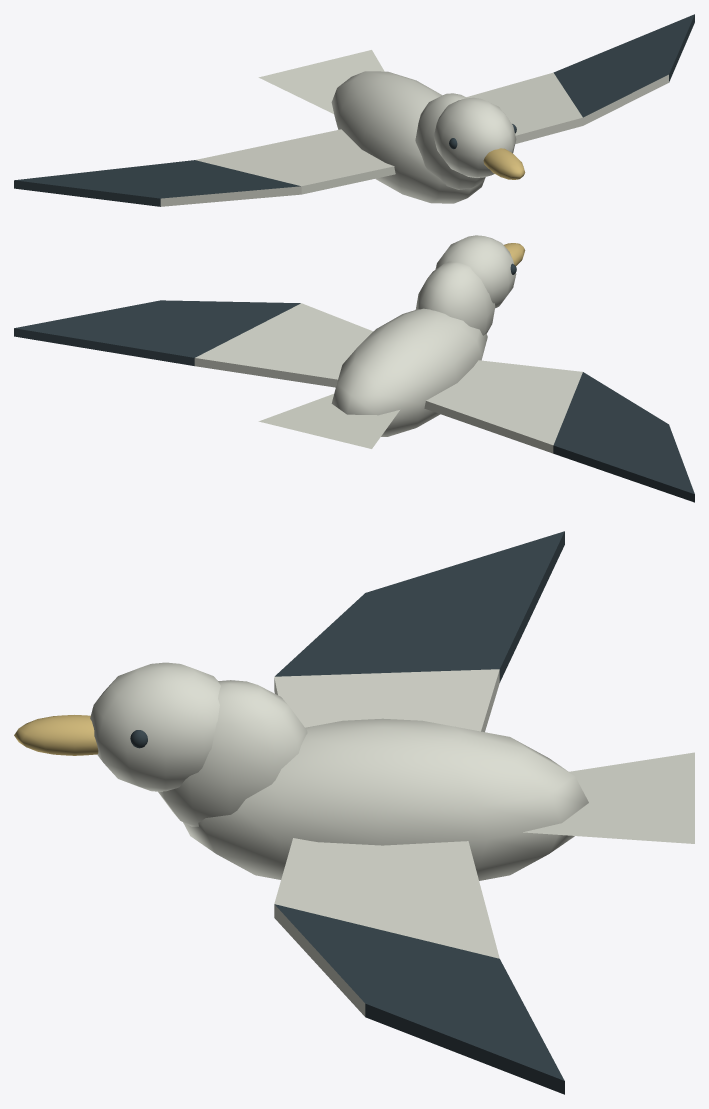
Rendered from gull.glb.
3 renders of one model, top to bottom at view 1: azimuth 30°, elevation 25°; view 2: azimuth 150°, elevation 25°; view 3: azimuth 270°, elevation 25°, orthographic. The views are drawn at different scales.
Parts seen in each view (by area): view 1: gull_feathers, wing_left_feathers, wing_right_feathers, gull_beak; view 2: gull_feathers, wing_right_feathers, wing_left_feathers; view 3: gull_feathers, wing_right_feathers, wing_left_feathers, gull_beak.
Part boxes in pixels (<box>): gull_feathers: <box>258,50,516,203</box>; wing_left_feathers: <box>14,129,395,206</box>; wing_right_feathers: <box>466,14,694,143</box>; gull_beak: <box>483,148,525,179</box>; gull_feathers: <box>258,235,516,448</box>; wing_right_feathers: <box>14,300,372,387</box>; wing_left_feathers: <box>424,360,694,502</box>; gull_feathers: <box>90,662,694,880</box>; wing_right_feathers: <box>274,838,564,1094</box>; wing_left_feathers: <box>274,531,564,732</box>; gull_beak: <box>14,715,98,755</box>.
Size of the model in its own units: 3 by 0.55 by 1.57.
